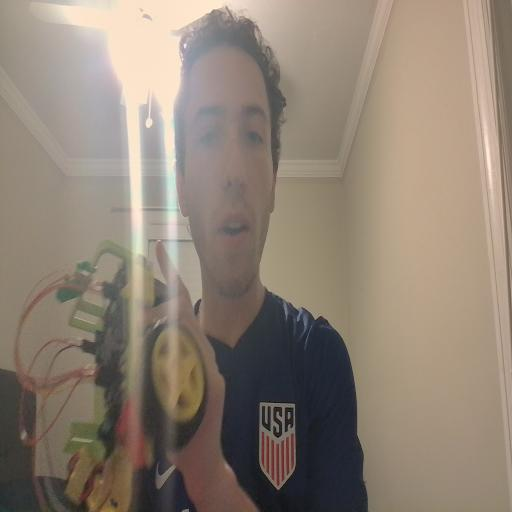green LEGO minifig: (56, 259, 96, 304)
